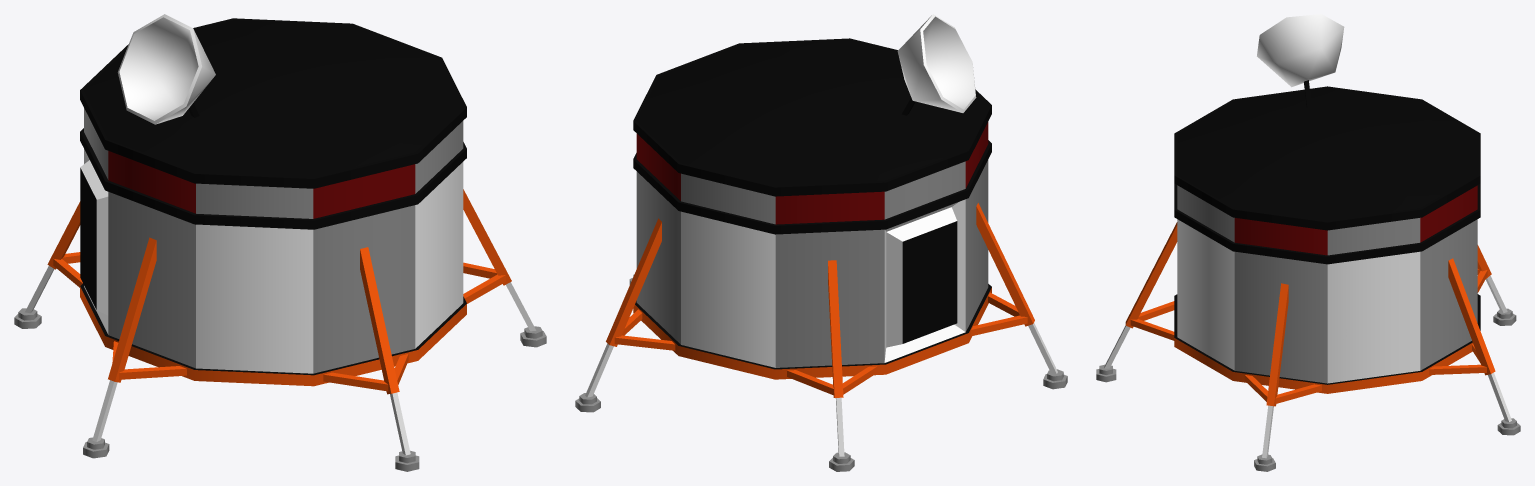
Rendered from landing-pod.fbx.
3 views of the same model, side by side, from view 1: azimuth 30°, elevation 25°; view 2: azimuth 150°, elevation 25°; view 3: azimuth 270°, elevation 25° (orthographic). The views are drawn at different scales.
Visible parts, largest first — view 1: OilTank002, GeoSphere005, Box459, Box455, Box471, Box462, Box457, Box463, Box460; view 2: OilTank002, GeoSphere005, Box467, Box459, Box463, Box470, Box461; view 3: OilTank002, GeoSphere005, Box467, Box471, Box455, Box469.
Part boxes in pixels (x1,y1,x2,y2): OilTank002: (80, 18, 466, 386); GeoSphere005: (117, 14, 215, 124); Box459: (108, 237, 156, 382); Box455: (360, 247, 399, 394); Box471: (463, 189, 511, 285); Box462: (119, 366, 186, 379); Box457: (323, 372, 388, 391); Box463: (47, 201, 80, 269); Box460: (92, 380, 117, 441); OilTank002: (633, 38, 991, 379); GeoSphere005: (897, 14, 976, 112); Box467: (606, 218, 661, 346); Box459: (976, 203, 1034, 326); Box463: (828, 260, 843, 397); Box470: (614, 335, 675, 350); Box461: (971, 315, 1027, 336); OilTank002: (1174, 86, 1480, 393); GeoSphere005: (1257, 14, 1344, 87); Box467: (1448, 258, 1495, 375); Box471: (1266, 283, 1288, 406); Box455: (1125, 222, 1177, 328); Box469: (1429, 364, 1486, 374).
Bounding box in the file's own units: 11.31 × 8.93 × 10.79.
